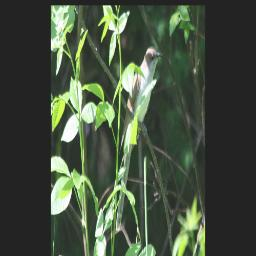Cuckoo: (115, 46, 164, 231)
